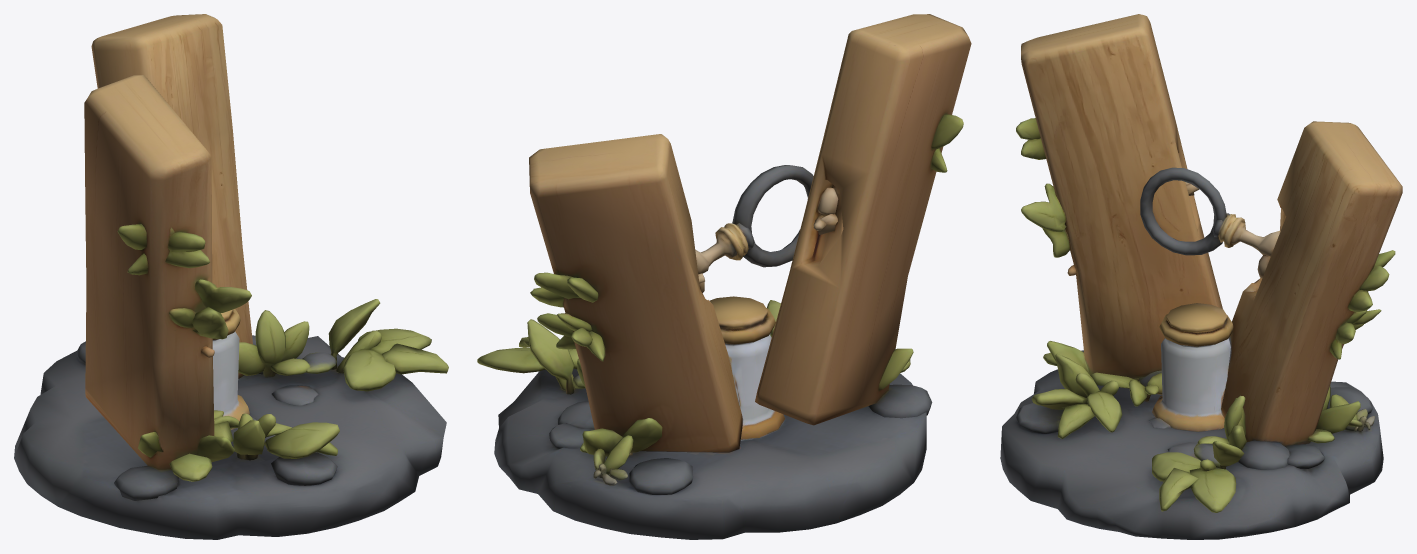
The model's file is ending-confused.glb.
3 views of the same model, side by side, from view 1: azimuth 30°, elevation 25°; view 2: azimuth 150°, elevation 25°; view 3: azimuth 270°, elevation 25° (orthographic). The views are drawn at different scales.
Visible parts, largest first — view 1: tripo_node_df2ab991-a4dc-441a-9d7d-887415676322; view 2: tripo_node_df2ab991-a4dc-441a-9d7d-887415676322; view 3: tripo_node_df2ab991-a4dc-441a-9d7d-887415676322.
Boxes of the visible parts, x1,y1,x2,y2 form: tripo_node_df2ab991-a4dc-441a-9d7d-887415676322: (14,14,448,539); tripo_node_df2ab991-a4dc-441a-9d7d-887415676322: (477,14,971,539); tripo_node_df2ab991-a4dc-441a-9d7d-887415676322: (1000,14,1402,539).
Size of the model in its own units: 0.998 by 0.998 by 0.959.
Materials: 1 (1 with a texture image).
